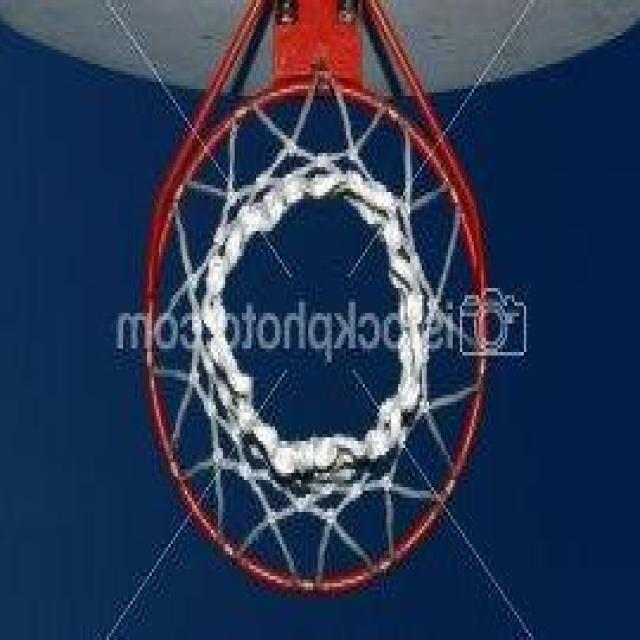hoop: (119, 1, 517, 613)
